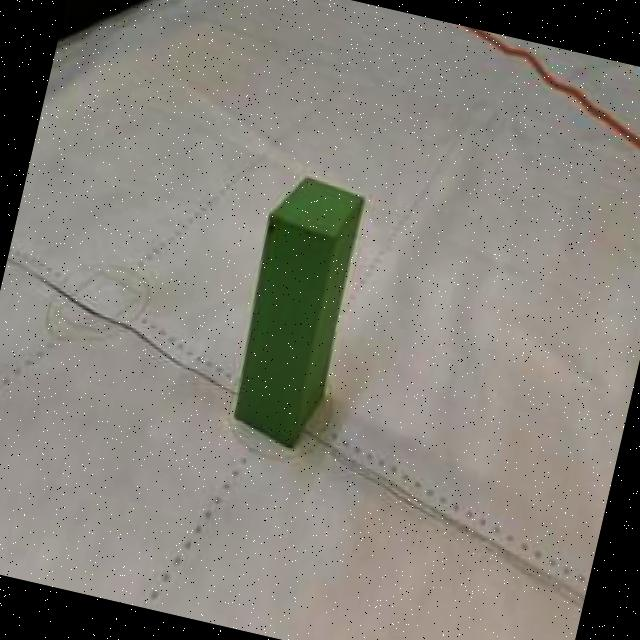greenbox: (215, 169, 366, 450)
